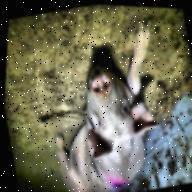boar: (28, 14, 189, 192)
